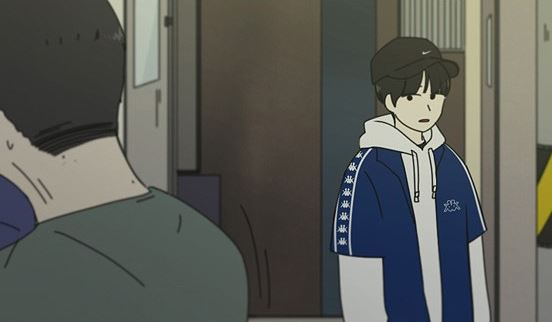hat: (370, 36, 460, 80)
